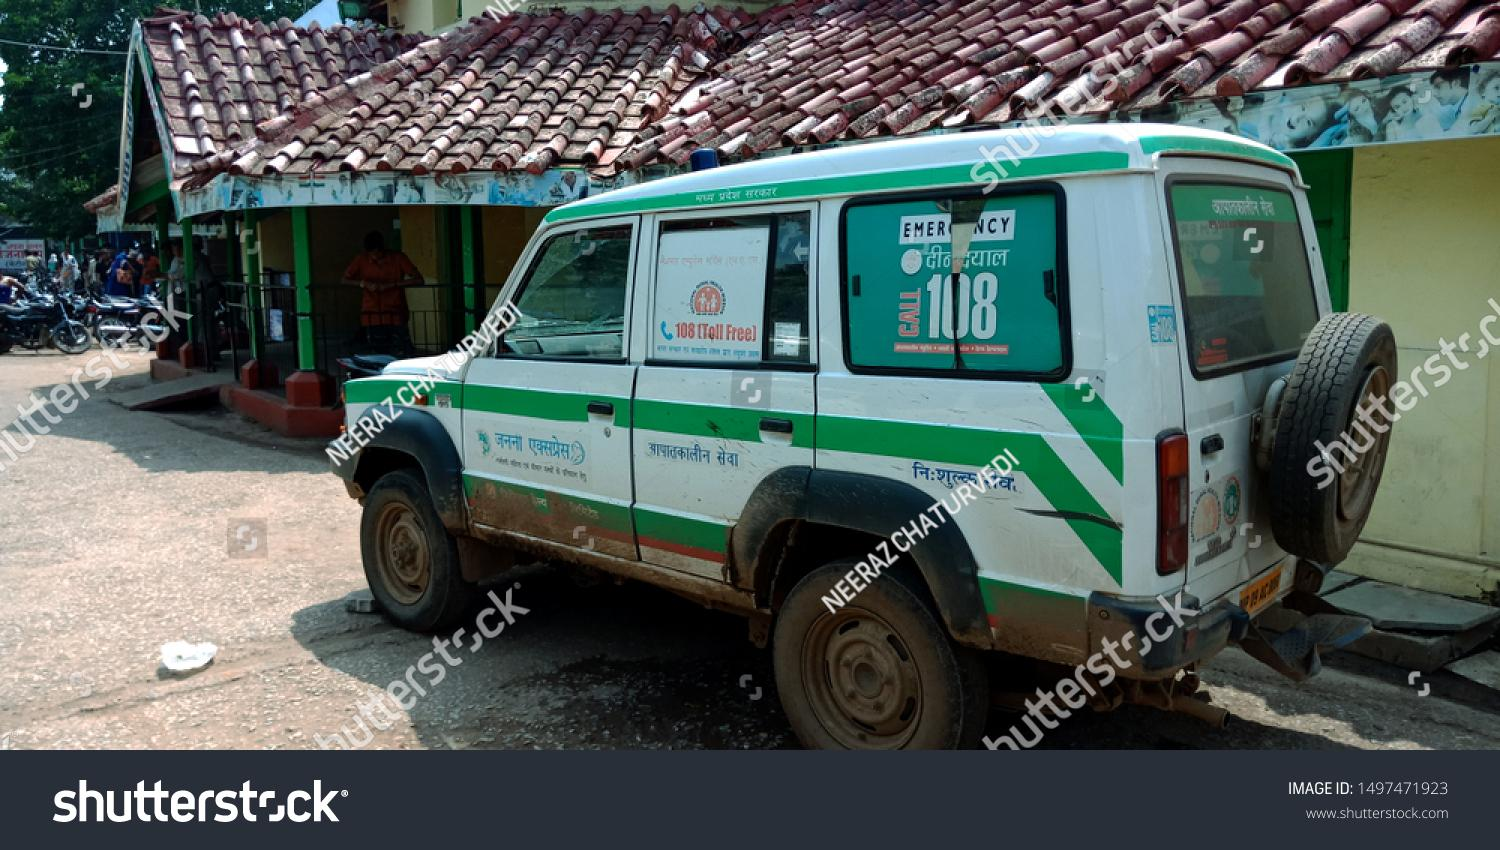ER: (338, 123, 1404, 764)
